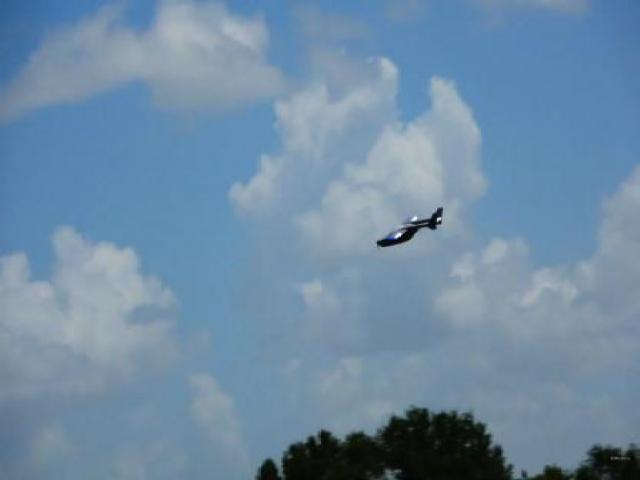uav: (374, 204, 446, 251)
